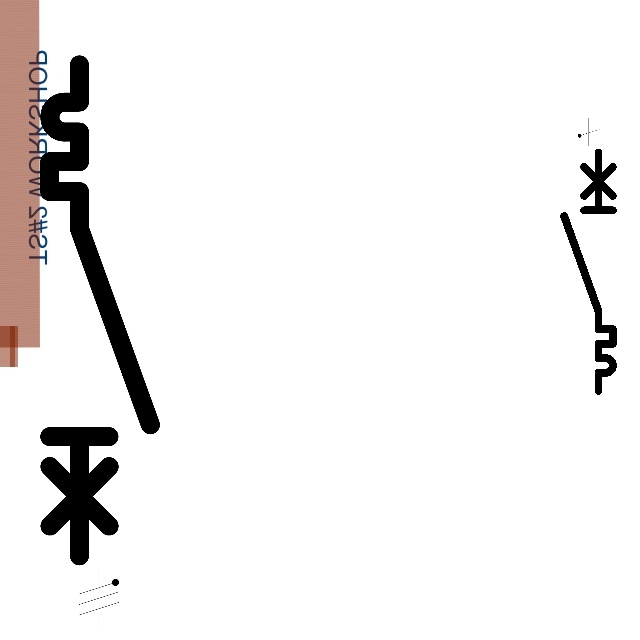interruptor_termomagnetico: (37, 52, 163, 569), (558, 146, 619, 397)
